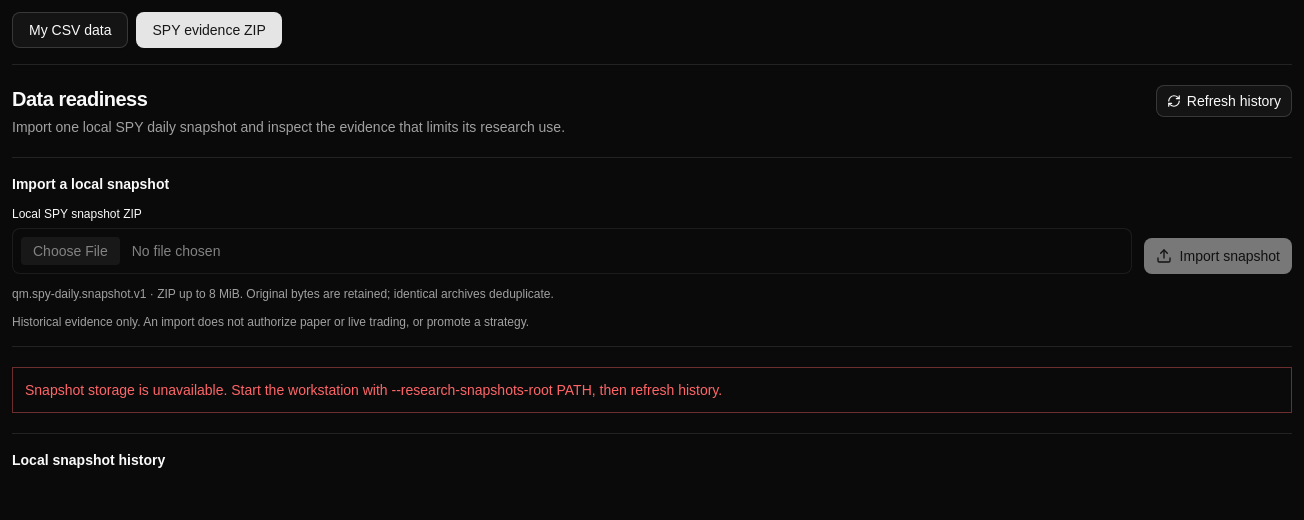
Scenario: shows unavailable storage with a retry and no enabled import
Expected: the message shows "Snapshot storage is unavailable", [25,382,722,398]
Expected: the button "Import snapshot" is disabled, [1144,238,1292,274]
Click the button "Refresh history". click: (1224,101)
box: [1156,85,1292,117]
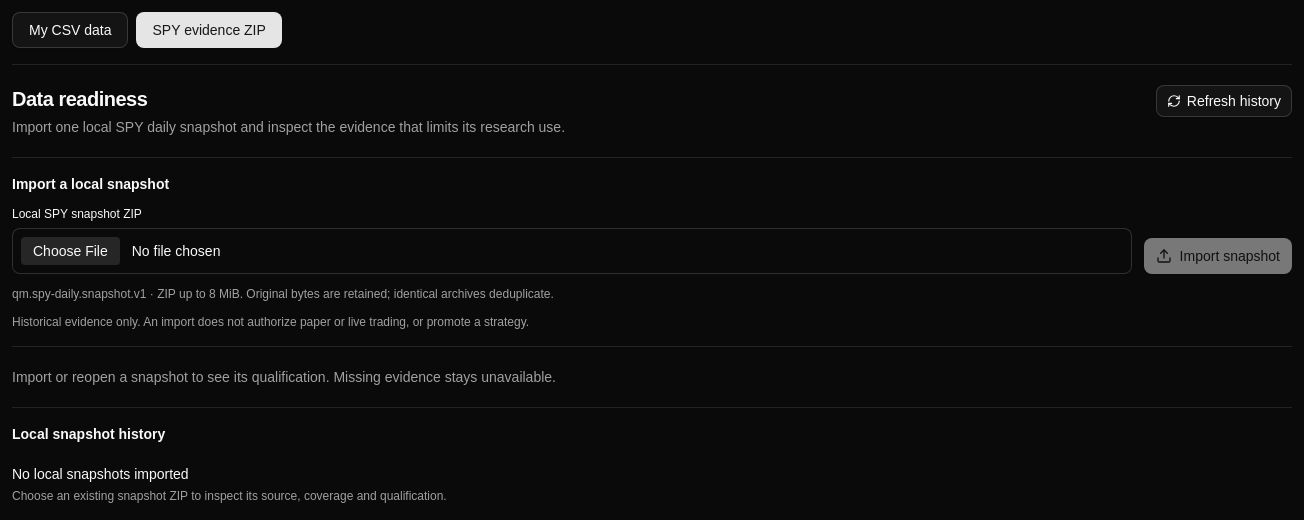
Expected: the text "No local snapshots imported" is shown, [12,466,189,482]
